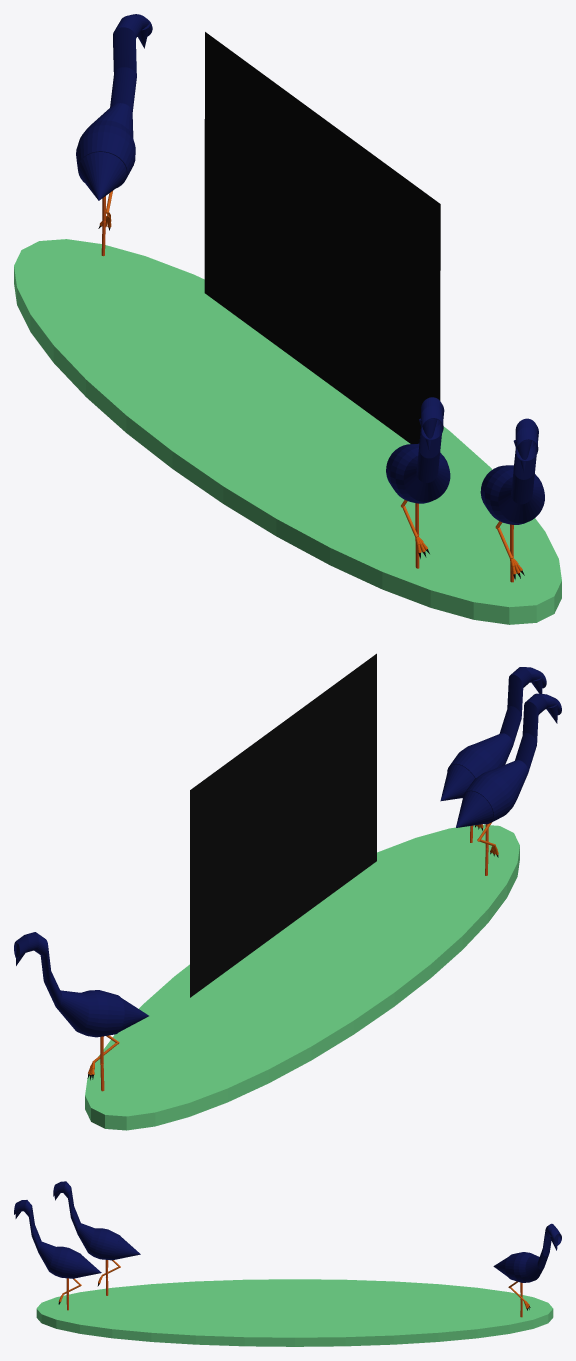
File: float12.fbx
3 renders of one model, top to bottom at view 1: azimuth 30°, elevation 25°; view 2: azimuth 150°, elevation 25°; view 3: azimuth 270°, elevation 25°, orthographic. The views are drawn at different scales.
Visible parts, largest first — view 1: Plane; view 2: Plane; view 3: Plane.
Part boxes in pixels (box(x1,y1,x2,y2)): Plane: box(14, 14, 561, 624); Plane: box(14, 653, 561, 1130); Plane: box(14, 1181, 561, 1346).
Bounding box in the file's own units: 500 × 662 × 1980.
